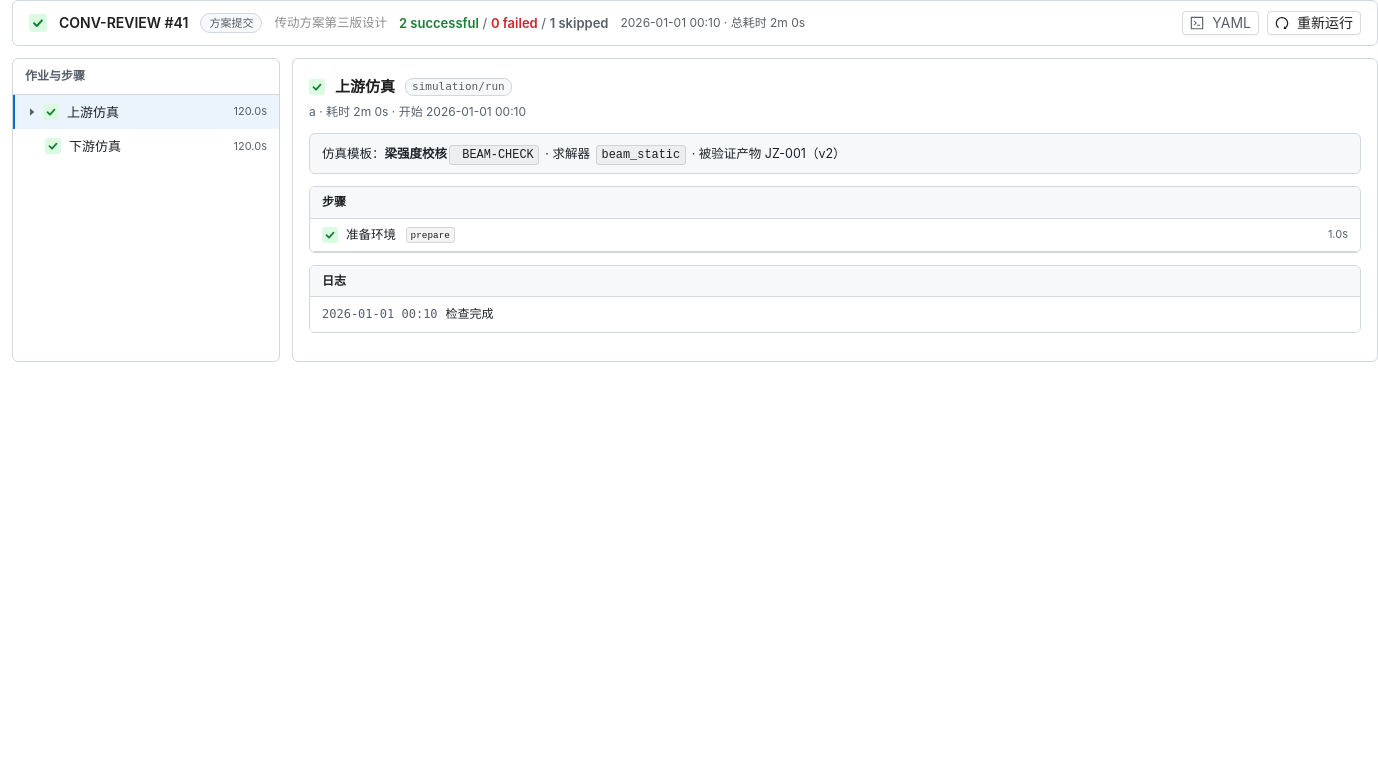
Test: 运行详情视图 › 点击 YAML 按钮展示运行定义快照
Click the button "YAML" at [1221, 23], box [1182,11,1259,35]
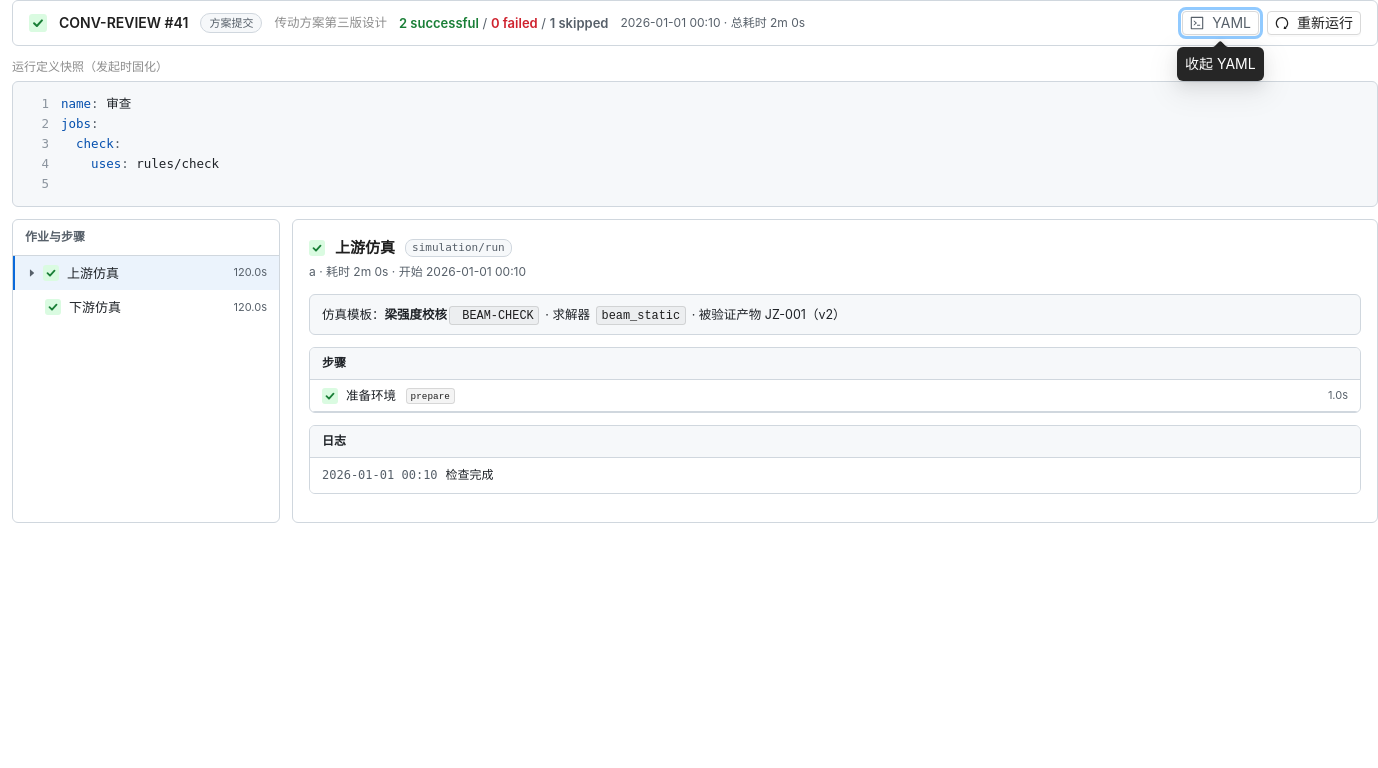
Expected: the text "运行定义快照（发起时固化）" is shown, [12,59,168,74]
